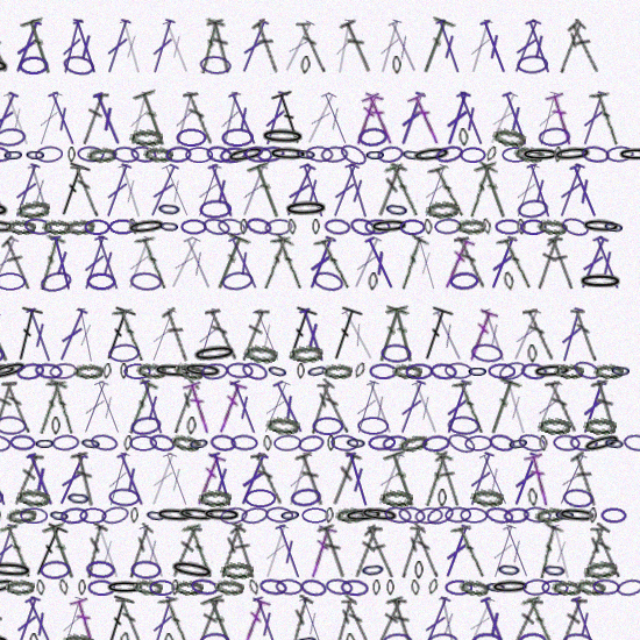chain: (191, 500, 233, 522), (16, 190, 57, 211), (36, 328, 73, 351), (16, 67, 57, 87), (211, 315, 252, 335), (546, 391, 583, 413), (26, 515, 63, 536), (240, 144, 277, 164), (36, 502, 76, 520), (270, 130, 310, 147), (290, 192, 330, 209), (80, 252, 110, 274), (314, 252, 344, 274), (337, 142, 364, 166), (400, 145, 436, 163), (155, 207, 191, 225), (27, 331, 63, 349), (543, 255, 583, 271), (17, 565, 57, 581), (469, 129, 500, 149), (60, 191, 91, 211), (521, 145, 557, 162), (203, 331, 239, 348), (198, 455, 234, 472), (355, 455, 391, 472), (430, 391, 457, 413), (100, 67, 129, 87), (158, 377, 187, 397), (525, 456, 561, 472), (548, 501, 578, 520), (474, 329, 501, 350), (538, 329, 565, 350), (412, 453, 439, 474), (27, 208, 62, 224), (178, 332, 213, 348), (504, 332, 539, 348), (388, 392, 416, 412), (180, 456, 215, 472), (342, 456, 377, 472), (451, 315, 480, 334), (412, 192, 442, 210), (528, 206, 555, 226), (256, 316, 286, 334), (295, 316, 325, 334), (100, 564, 130, 582), (491, 191, 519, 210), (237, 253, 265, 272), (296, 439, 324, 458), (277, 146, 312, 161), (364, 208, 399, 223), (546, 208, 581, 223), (220, 456, 255, 471), (468, 518, 503, 533), (158, 254, 187, 272), (346, 206, 372, 226), (253, 330, 279, 350), (275, 378, 305, 395), (218, 68, 246, 86), (42, 130, 70, 148), (23, 316, 51, 334), (530, 440, 558, 458), (374, 564, 402, 582), (413, 564, 441, 582), (530, 564, 558, 582), (420, 144, 446, 163), (491, 392, 517, 411), (133, 454, 159, 473), (509, 130, 538, 147), (431, 378, 460, 395), (61, 440, 90, 457), (451, 440, 480, 457), (494, 147, 529, 161), (577, 147, 612, 161), (137, 519, 172, 533), (196, 331, 223, 349), (218, 192, 246, 209), (42, 378, 70, 395), (257, 206, 282, 225), (174, 392, 199, 411), (466, 392, 491, 411), (220, 207, 246, 225), (233, 207, 259, 225), (60, 331, 86, 349), (235, 455, 261, 473), (253, 455, 279, 473), (463, 455, 489, 473), (158, 131, 187, 147), (509, 379, 538, 395), (548, 379, 577, 395), (217, 441, 246, 457), (373, 441, 402, 457), (236, 503, 265, 519), (491, 68, 518, 85), (354, 130, 381, 147), (488, 145, 515, 162), (140, 316, 167, 333), (374, 316, 401, 333), (193, 393, 220, 410), (23, 440, 50, 457), (140, 440, 167, 457), (506, 455, 533, 472), (81, 502, 108, 519), (120, 502, 147, 519), (159, 502, 186, 519), (541, 517, 568, 534), (218, 564, 245, 581), (452, 564, 479, 581), (491, 564, 518, 581), (298, 563, 322, 582), (302, 393, 327, 411), (304, 517, 329, 535), (576, 517, 601, 535), (237, 131, 265, 147), (433, 254, 459, 271), (376, 455, 402, 472), (388, 455, 414, 472), (198, 131, 225, 147), (121, 146, 148, 162), (376, 192, 400, 210), (102, 208, 129, 224), (508, 208, 535, 224), (42, 255, 69, 271), (315, 379, 342, 395), (354, 379, 381, 395), (257, 441, 284, 457), (52, 456, 79, 472), (441, 518, 468, 534), (32, 145, 57, 162), (158, 145, 183, 162), (223, 145, 248, 162), (267, 145, 292, 162), (370, 145, 395, 162), (546, 145, 571, 162), (67, 207, 92, 224), (124, 393, 149, 410), (210, 517, 235, 534), (269, 517, 294, 534), (326, 517, 351, 534), (63, 69, 89, 85), (121, 255, 147, 271), (103, 440, 126, 458), (512, 502, 535, 520), (227, 393, 251, 410), (582, 393, 606, 410), (274, 208, 299, 224), (76, 332, 101, 348), (89, 332, 114, 348), (219, 332, 244, 348), (32, 394, 57, 410), (409, 394, 434, 410), (98, 456, 123, 472), (403, 456, 428, 472), (339, 518, 364, 534), (181, 192, 204, 209), (356, 502, 379, 519), (473, 502, 496, 519), (170, 146, 196, 161), (439, 208, 465, 223), (164, 332, 190, 347), (335, 456, 361, 471), (51, 518, 77, 533), (161, 518, 187, 533), (231, 518, 257, 533), (143, 146, 167, 162), (235, 146, 259, 162), (325, 208, 349, 224), (416, 332, 440, 348), (494, 332, 518, 348), (375, 394, 399, 410), (479, 456, 503, 472), (275, 331, 296, 349), (309, 146, 334, 161), (322, 146, 347, 161), (567, 146, 592, 161), (91, 394, 116, 409), (536, 394, 561, 409), (496, 456, 521, 471), (283, 518, 308, 533), (52, 209, 78, 223), (83, 209, 109, 223), (110, 333, 136, 347), (324, 333, 350, 347), (384, 333, 410, 347), (523, 333, 549, 347), (557, 333, 583, 347), (196, 519, 222, 533), (521, 519, 547, 533), (77, 146, 101, 161), (113, 146, 137, 161), (257, 146, 281, 161), (420, 208, 444, 223), (241, 332, 265, 347), (429, 332, 453, 347), (245, 394, 269, 409), (282, 394, 306, 409), (331, 394, 355, 409), (363, 394, 387, 409), (522, 394, 546, 409), (275, 456, 299, 471), (496, 518, 520, 533), (556, 518, 580, 533), (309, 331, 330, 348), (189, 146, 212, 161), (55, 394, 78, 409), (429, 456, 452, 471), (206, 147, 230, 161), (478, 147, 502, 161), (140, 209, 164, 223), (472, 209, 496, 223), (564, 208, 585, 224), (153, 333, 177, 347), (364, 333, 388, 347), (395, 333, 419, 347), (466, 333, 490, 347), (158, 395, 182, 409), (446, 395, 470, 409), (482, 394, 503, 410), (64, 457, 88, 471), (115, 457, 139, 471), (306, 457, 330, 471), (442, 457, 466, 471), (122, 519, 146, 533), (429, 519, 453, 533), (512, 519, 536, 533), (442, 147, 465, 161), (119, 209, 142, 223), (202, 209, 225, 223), (360, 209, 383, 223), (390, 209, 413, 223), (494, 209, 517, 223), (563, 457, 586, 471), (175, 519, 198, 533), (391, 146, 411, 162), (115, 394, 135, 410), (208, 394, 228, 410), (565, 394, 585, 410), (88, 456, 108, 472), (171, 456, 191, 472), (300, 146, 320, 161), (343, 394, 363, 409), (463, 518, 483, 533), (183, 208, 202, 223), (571, 332, 590, 347), (287, 456, 306, 471), (523, 456, 542, 471), (49, 147, 68, 161), (68, 147, 87, 161), (360, 147, 379, 161), (448, 333, 467, 347), (76, 395, 95, 409), (479, 254, 490, 271), (148, 564, 159, 581), (463, 146, 475, 161), (350, 332, 362, 347), (500, 440, 510, 457), (260, 518, 271, 533), (157, 208, 167, 223), (97, 518, 107, 533), (414, 518, 424, 533), (305, 69, 314, 85), (441, 131, 450, 147), (363, 255, 372, 271), (500, 317, 509, 333), (207, 379, 216, 395), (188, 565, 197, 581), (344, 565, 353, 581), (461, 208, 470, 223), (384, 69, 392, 85), (91, 379, 99, 395), (423, 441, 431, 457), (403, 503, 411, 519), (72, 565, 80, 581), (40, 457, 49, 471), (294, 209, 302, 223), (411, 209, 419, 223), (491, 209, 499, 223), (135, 333, 143, 347), (153, 395, 161, 409), (273, 395, 281, 409), (510, 395, 518, 409), (326, 457, 334, 471), (78, 519, 86, 533), (400, 519, 408, 533), (105, 147, 112, 161), (523, 147, 530, 161), (253, 209, 260, 223), (315, 209, 322, 223), (150, 333, 157, 347), (302, 333, 309, 347), (328, 395, 335, 409), (159, 457, 166, 471), (553, 457, 560, 471), (114, 519, 121, 533), (194, 519, 201, 533), (367, 519, 374, 533), (379, 519, 386, 533)
double: (24, 283, 62, 335), (226, 221, 263, 273), (219, 531, 256, 583), (70, 469, 107, 520), (403, 35, 439, 87), (161, 97, 197, 149), (259, 159, 295, 211), (454, 159, 490, 211), (83, 469, 119, 521), (414, 160, 451, 210), (316, 222, 353, 272), (473, 221, 509, 272), (13, 283, 49, 334), (64, 35, 99, 87), (461, 345, 496, 397), (376, 407, 411, 459), (376, 159, 411, 210), (266, 221, 301, 272), (149, 345, 184, 396), (434, 469, 469, 520), (365, 283, 399, 335), (337, 284, 373, 333), (286, 36, 321, 86), (305, 98, 340, 148), (188, 222, 223, 272), (415, 284, 450, 334), (278, 346, 313, 396), (279, 97, 313, 148), (92, 159, 126, 210), (162, 221, 196, 272), (131, 283, 165, 334), (287, 283, 321, 334), (326, 283, 360, 334), (404, 283, 438, 334), (72, 345, 106, 396), (182, 531, 216, 582), (494, 531, 528, 582), (26, 36, 60, 86), (338, 36, 372, 86), (377, 36, 411, 86), (396, 98, 430, 148), (462, 98, 496, 148), (170, 160, 204, 210), (287, 160, 321, 210), (33, 222, 67, 272), (240, 222, 274, 272), (345, 222, 379, 272), (357, 222, 391, 272), (482, 284, 516, 334), (92, 408, 126, 458), (455, 408, 489, 458), (521, 408, 555, 458), (65, 532, 99, 582), (14, 159, 47, 210), (443, 159, 476, 210), (279, 221, 312, 272), (384, 221, 417, 272), (143, 283, 176, 334), (435, 345, 468, 396), (404, 407, 437, 458), (45, 469, 78, 520), (131, 531, 164, 582), (33, 98, 66, 148), (123, 98, 156, 148), (240, 98, 273, 148), (357, 98, 390, 148), (182, 160, 215, 210), (533, 160, 566, 210), (201, 222, 234, 272), (423, 222, 456, 272), (540, 222, 573, 272), (92, 284, 125, 334), (260, 284, 293, 334), (267, 346, 300, 396), (248, 408, 281, 458), (14, 532, 47, 582), (443, 532, 476, 582), (378, 283, 410, 334), (202, 469, 234, 520), (54, 36, 86, 86), (183, 36, 215, 86), (249, 36, 281, 86), (456, 36, 488, 86), (483, 36, 515, 86), (46, 98, 78, 148), (85, 98, 117, 148), (319, 98, 351, 148), (436, 98, 468, 148), (27, 160, 59, 210), (249, 160, 281, 210), (327, 160, 359, 210), (366, 160, 398, 210), (307, 222, 339, 272), (463, 222, 495, 272), (553, 222, 585, 272), (444, 284, 476, 334), (112, 346, 144, 396), (124, 346, 156, 396), (241, 346, 273, 396), (358, 346, 390, 396), (397, 346, 429, 396), (502, 346, 534, 396), (66, 408, 98, 458), (144, 408, 176, 458), (171, 408, 203, 458), (210, 408, 242, 458), (327, 408, 359, 458), (366, 408, 398, 458), (475, 470, 507, 520), (405, 532, 437, 582), (456, 532, 488, 582), (533, 37, 566, 85), (553, 97, 584, 148), (73, 221, 104, 272), (495, 36, 526, 86), (385, 98, 416, 148), (475, 98, 506, 148), (54, 160, 85, 210), (132, 160, 163, 210), (210, 160, 241, 210), (222, 160, 253, 210), (405, 160, 436, 210), (522, 160, 553, 210), (151, 222, 182, 272), (66, 284, 97, 334), (171, 284, 202, 334), (229, 346, 260, 396), (385, 346, 416, 396), (27, 408, 58, 458), (183, 408, 214, 458), (300, 408, 331, 458), (483, 408, 514, 458), (163, 470, 194, 520), (280, 470, 311, 520), (319, 470, 350, 520), (424, 470, 455, 520), (249, 532, 280, 582), (261, 532, 292, 582), (300, 532, 331, 582), (378, 532, 409, 582), (534, 532, 565, 582), (46, 223, 78, 271), (358, 471, 390, 519), (211, 35, 241, 86), (55, 283, 85, 334), (86, 345, 116, 396), (366, 532, 397, 581), (483, 532, 514, 581), (106, 36, 136, 86), (133, 36, 163, 86), (418, 36, 448, 86), (74, 98, 104, 148), (347, 98, 377, 148), (425, 98, 455, 148), (542, 98, 572, 148), (301, 160, 331, 210), (484, 160, 514, 210), (496, 160, 526, 210), (113, 222, 143, 272), (125, 222, 155, 272), (301, 284, 331, 334), (457, 284, 487, 334), (203, 346, 233, 396), (425, 346, 455, 396), (542, 346, 572, 396), (289, 408, 319, 458), (445, 408, 475, 458), (35, 470, 65, 520), (125, 470, 155, 520), (269, 470, 299, 520), (464, 470, 494, 520), (55, 532, 85, 582), (319, 347, 350, 395), (503, 469, 532, 520), (515, 222, 545, 271), (223, 284, 253, 333), (515, 346, 545, 395), (55, 408, 85, 457), (262, 408, 292, 457), (191, 470, 221, 519), (542, 470, 572, 519), (172, 36, 201, 86), (269, 98, 298, 148), (515, 98, 544, 148), (67, 160, 96, 210), (145, 160, 174, 210), (340, 160, 369, 210), (211, 284, 240, 334), (164, 346, 193, 396), (347, 346, 376, 396), (476, 346, 505, 396), (554, 346, 583, 396), (308, 470, 337, 520), (94, 532, 123, 582), (106, 532, 135, 582), (172, 532, 201, 582), (340, 533, 370, 581), (262, 36, 291, 85), (437, 222, 466, 271), (496, 284, 525, 333), (191, 346, 220, 395), (230, 470, 259, 519), (146, 36, 174, 86), (368, 36, 396, 86), (446, 36, 474, 86), (399, 222, 427, 272), (524, 284, 552, 334), (134, 408, 162, 458), (224, 408, 252, 458), (341, 408, 369, 458), (301, 37, 330, 85), (523, 37, 552, 85), (554, 471, 583, 519), (17, 36, 45, 85), (204, 98, 232, 147), (107, 160, 135, 209), (185, 284, 213, 333), (251, 284, 279, 333), (48, 346, 76, 395), (419, 408, 447, 457), (536, 408, 564, 457), (243, 470, 271, 519), (348, 470, 376, 519), (399, 470, 427, 519), (146, 532, 174, 581), (212, 532, 240, 581), (524, 532, 552, 581), (95, 36, 122, 86), (224, 36, 251, 86), (153, 98, 180, 148), (192, 98, 219, 148), (504, 98, 531, 148), (87, 222, 114, 272), (107, 408, 134, 458), (497, 408, 524, 458), (516, 470, 543, 520), (114, 98, 141, 147), (309, 346, 336, 395), (153, 470, 180, 519), (387, 470, 414, 519), (290, 532, 317, 581), (232, 98, 258, 148), (505, 222, 531, 271), (537, 284, 563, 333), (18, 408, 44, 457), (108, 284, 133, 334), (420, 532, 445, 582), (37, 346, 62, 395), (115, 470, 140, 519), (330, 532, 355, 581), (331, 36, 355, 86), (31, 532, 55, 581)
noise: (0, 429, 20, 455), (9, 329, 43, 344), (604, 426, 625, 447), (7, 532, 34, 543)
